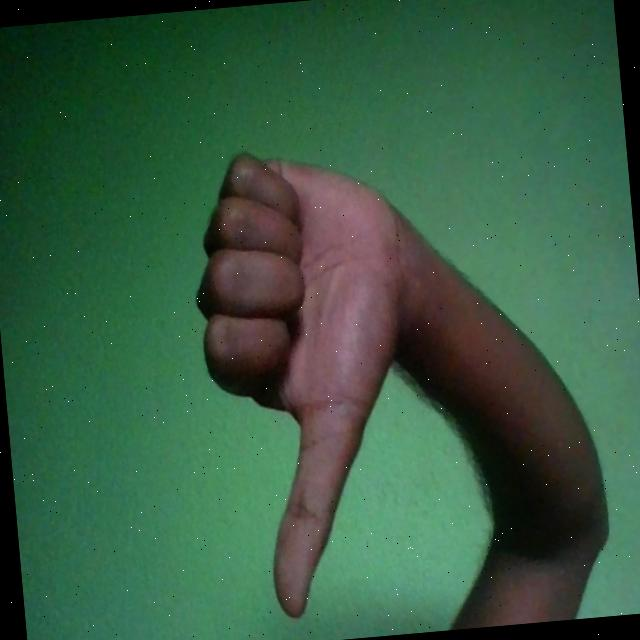Dislike: (186, 140, 434, 622)
